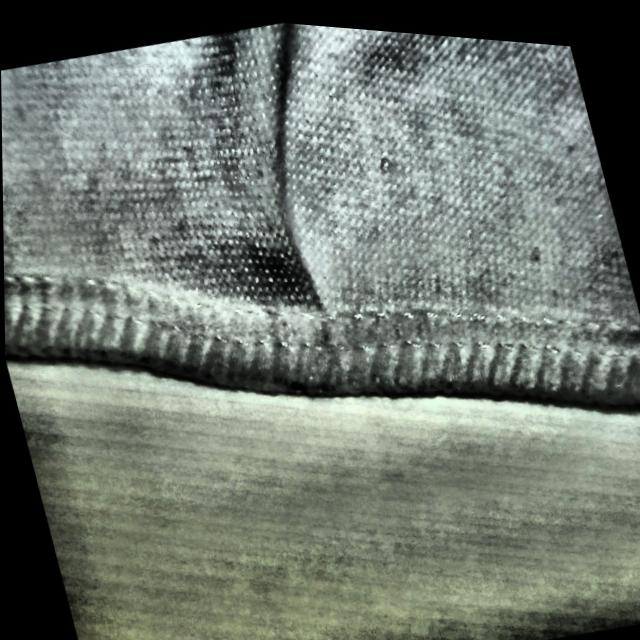seam: (165, 55, 410, 419)
